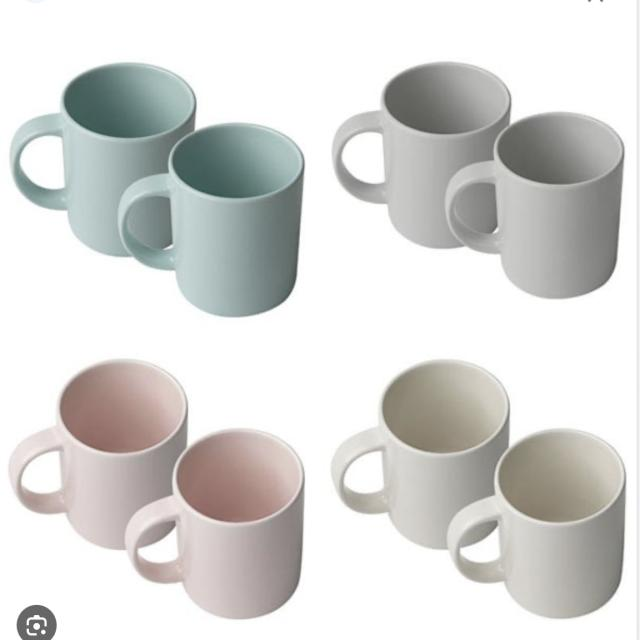recyclable: (118, 420, 320, 629), (441, 418, 631, 629), (118, 121, 318, 321), (435, 106, 631, 310)
